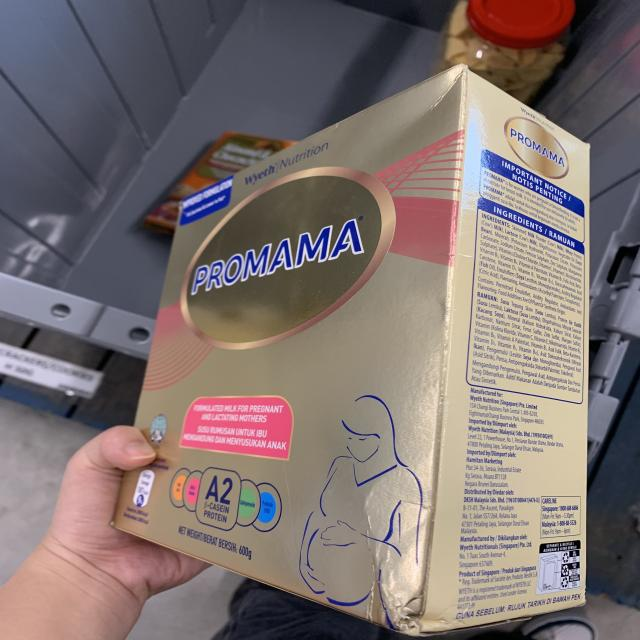object_name: (110, 103, 583, 601)
